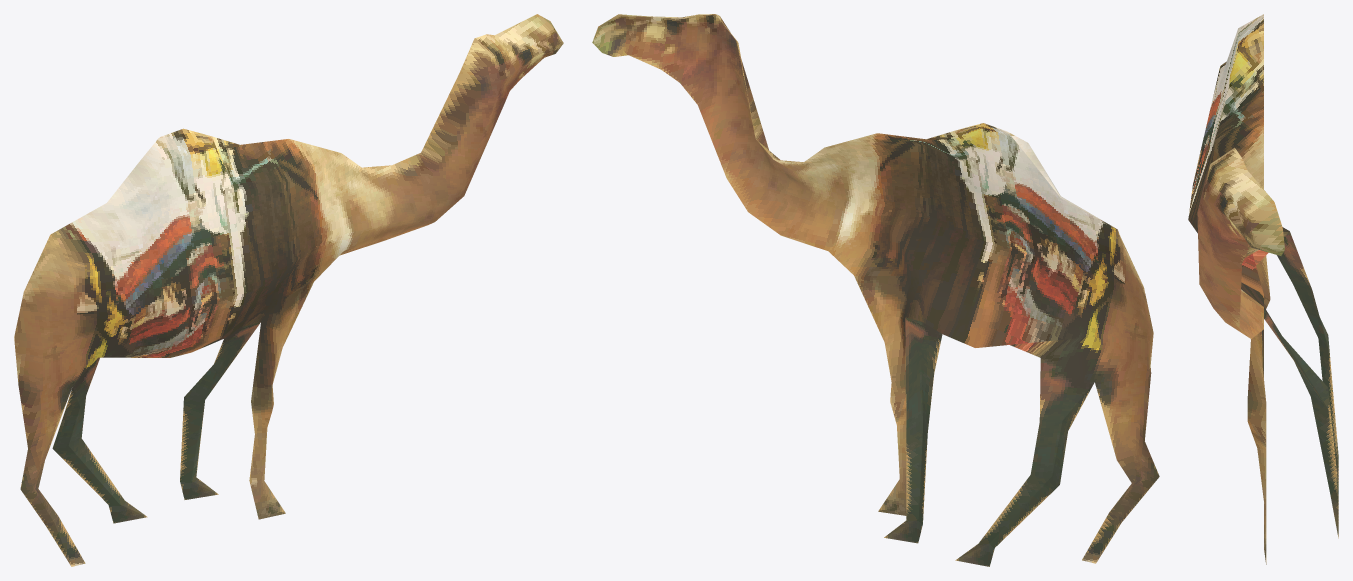
File: stage-ruin-p4-0.glb
The picture shows the model from 3 angles, left to right: view 1: azimuth 30°, elevation 25°; view 2: azimuth 150°, elevation 25°; view 3: azimuth 270°, elevation 25°; orthographic projection. The views are drawn at different scales.
Size of the model in its own units: 3.65 by 2.81 by 0.7369.
Materials: 1 (1 with a texture image).
